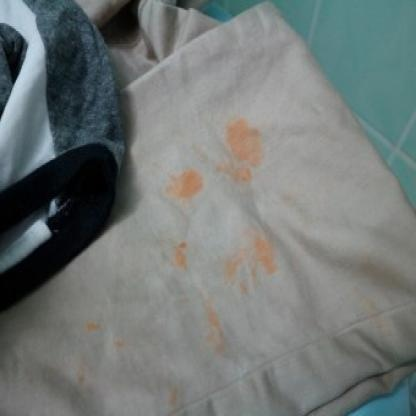kimchi: (216, 111, 273, 185), (223, 233, 277, 296), (346, 283, 394, 343), (159, 167, 207, 205), (202, 304, 223, 361), (173, 240, 193, 277), (80, 318, 104, 340), (166, 385, 185, 407), (112, 337, 123, 355), (72, 370, 85, 384)
